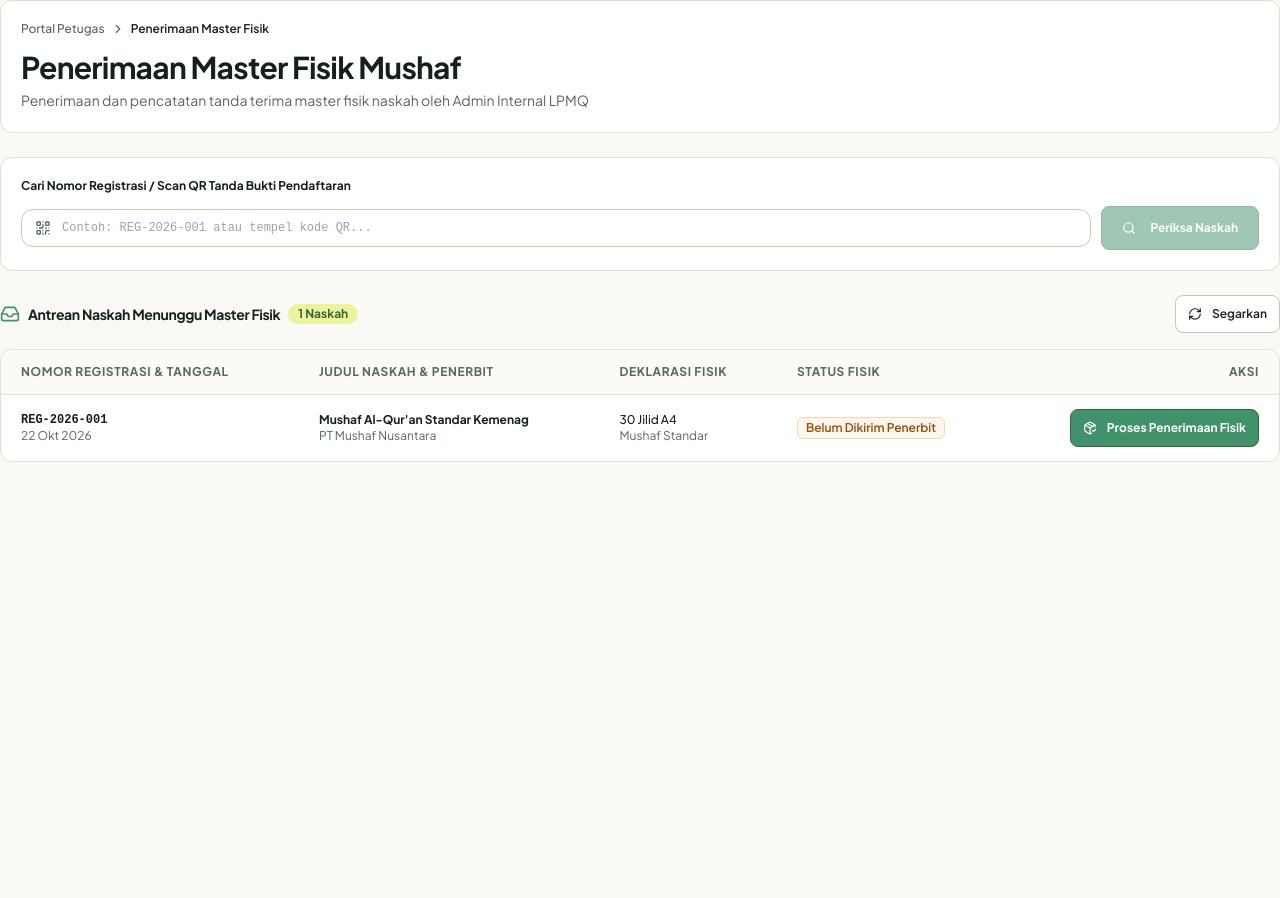
Test: AdminMasterIntakePage Component › merender antrean naskah yang menunggu master fisik dan membuka detail saat diklik
Check: the heading "Antrean Naskah Menunggu Master Fisik" is shown, box [28, 304, 280, 324]
Step 1. Click the button "Proses Penerimaan Fisik" → {"x": 1164, "y": 428}, box [1070, 409, 1259, 447]
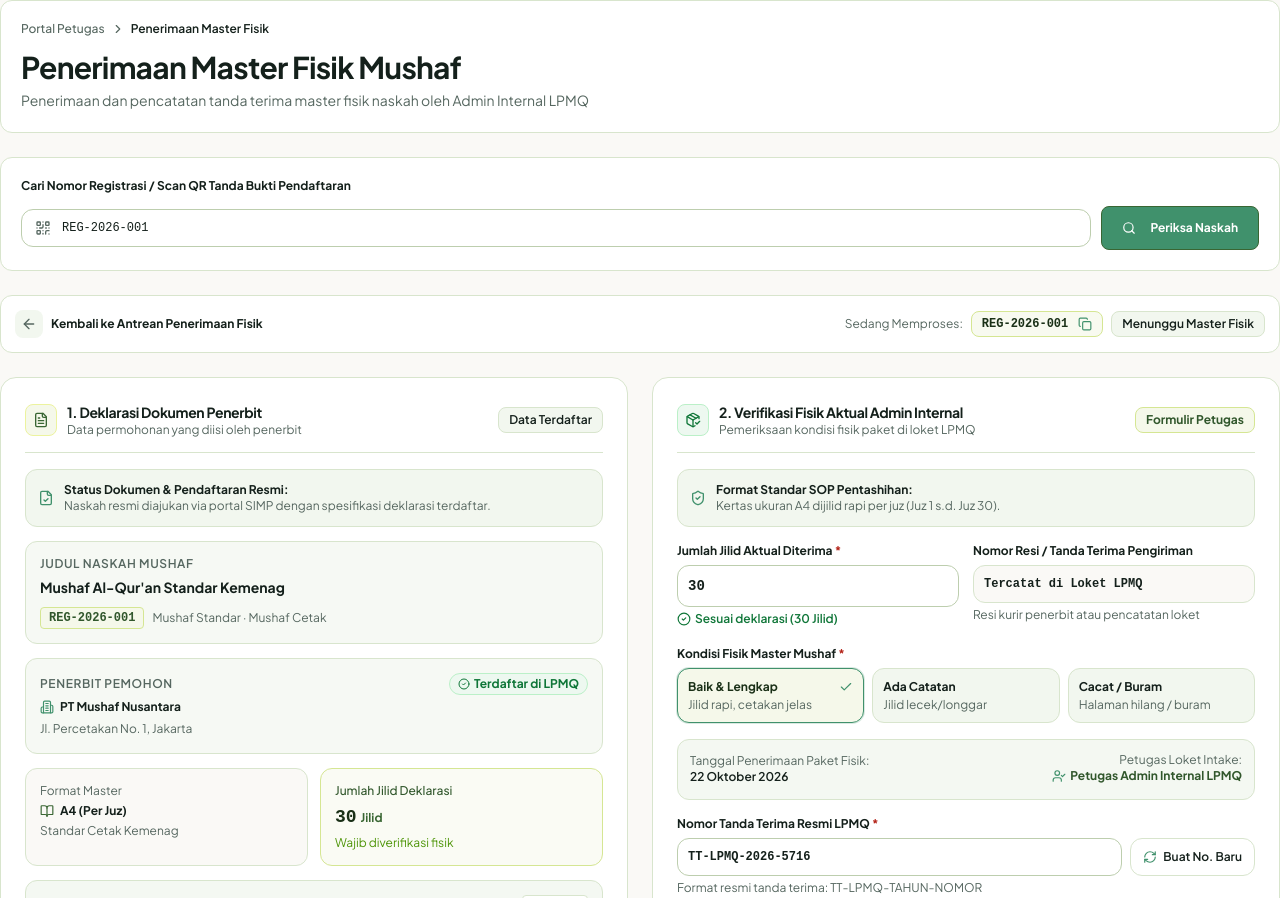
Check: the heading "1. Deklarasi Dokumen Penerbit" is shown, box [67, 403, 262, 421]
Check: the text "Kembali ke Antrean Penerimaan Fisik" is shown, box [51, 316, 263, 332]
Note: Navigasi kembali ke daftar antrean
Step 2. Click the button "Kembali ke Antrean Penerimaan Fisik" → {"x": 139, "y": 324}, box [15, 310, 263, 338]
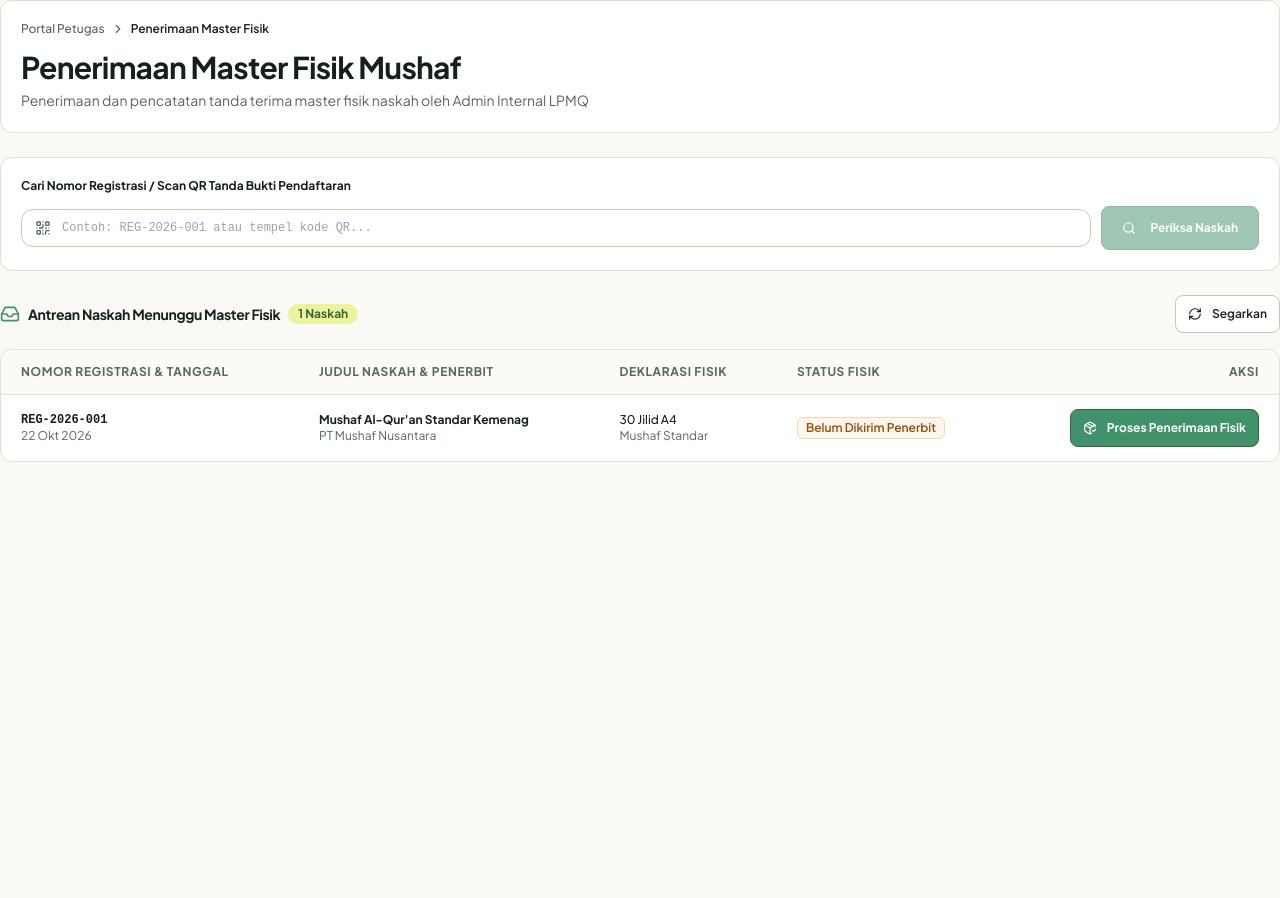
Check: the heading "Antrean Naskah Menunggu Master Fisik" is shown, box [28, 304, 280, 324]
